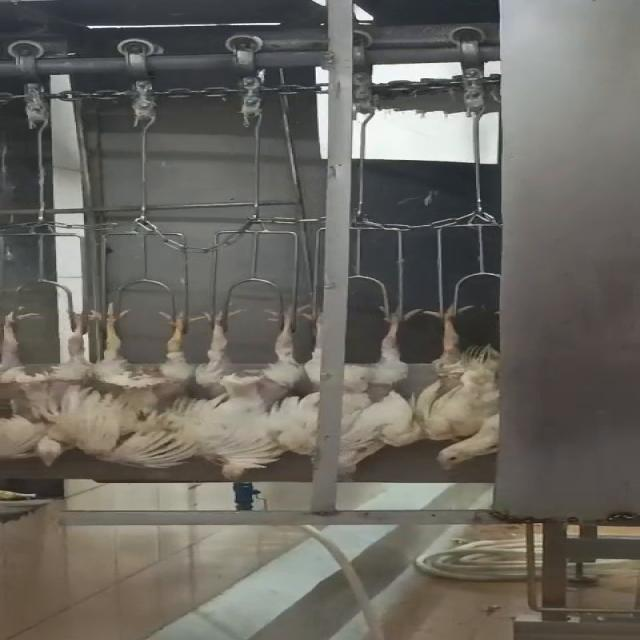chicken: (190, 307, 304, 484), (0, 304, 115, 470), (405, 298, 512, 472), (89, 304, 199, 473), (338, 302, 432, 478)
